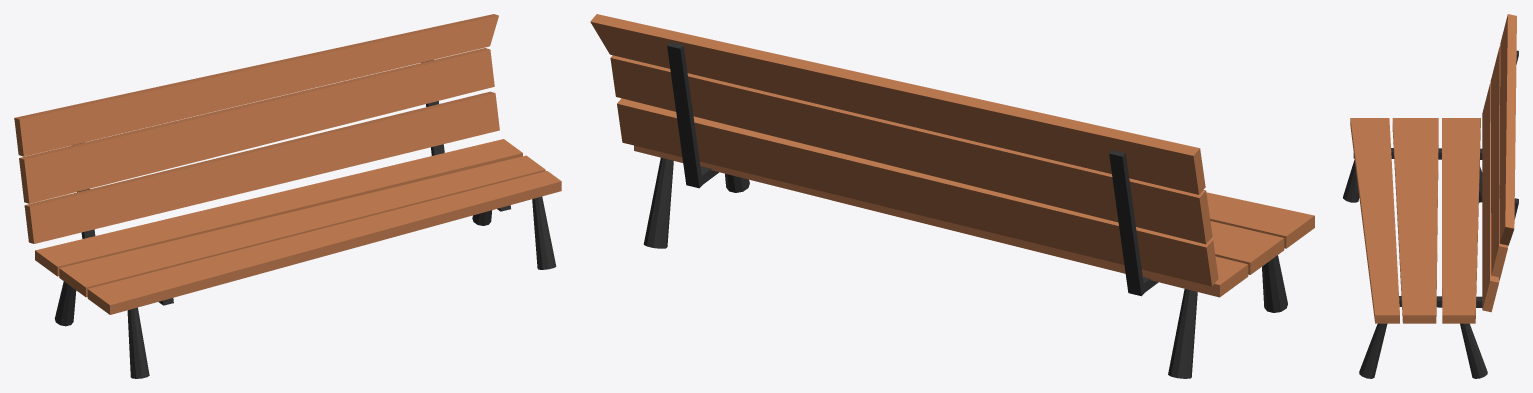
Rendered from bank.fbx.
The picture shows the model from 3 angles, left to right: view 1: azimuth 30°, elevation 25°; view 2: azimuth 150°, elevation 25°; view 3: azimuth 270°, elevation 25°; orthographic projection. The views are drawn at different scales.
Parts seen in each view (by area): view 1: polySurface36; view 2: polySurface36; view 3: polySurface36.
Part boxes in pixels (<box>): polySurface36: <box>14,14,561,378</box>; polySurface36: <box>590,14,1314,378</box>; polySurface36: <box>1343,14,1518,378</box>.
Size of the model in its own units: 22.4 by 8.95 by 8.21.
